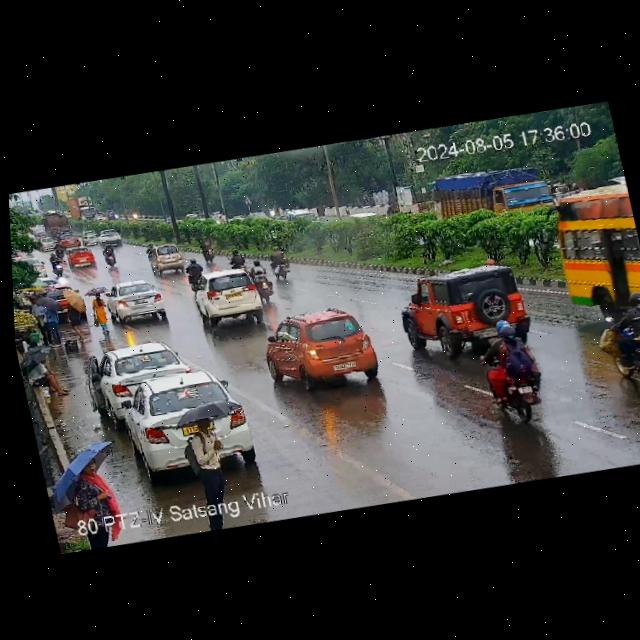bus: (538, 170, 640, 336)
car: (110, 362, 260, 490), (387, 249, 540, 365), (251, 300, 386, 400), (78, 334, 201, 432), (194, 264, 273, 330), (97, 274, 172, 327), (145, 241, 190, 275), (66, 246, 95, 270), (96, 227, 125, 247), (57, 231, 83, 250), (80, 228, 100, 247)
motorcycle: (470, 310, 552, 428), (594, 299, 640, 392), (246, 256, 276, 304), (266, 245, 294, 283), (182, 254, 206, 292), (224, 248, 250, 275), (197, 232, 217, 264), (98, 242, 120, 269), (45, 250, 64, 278), (51, 238, 67, 260)
person: (169, 391, 261, 505), (40, 433, 129, 524), (17, 341, 73, 404), (59, 284, 93, 344), (34, 292, 65, 346), (86, 284, 116, 338)
truck: (428, 158, 556, 228), (39, 209, 75, 241), (64, 191, 99, 223)
